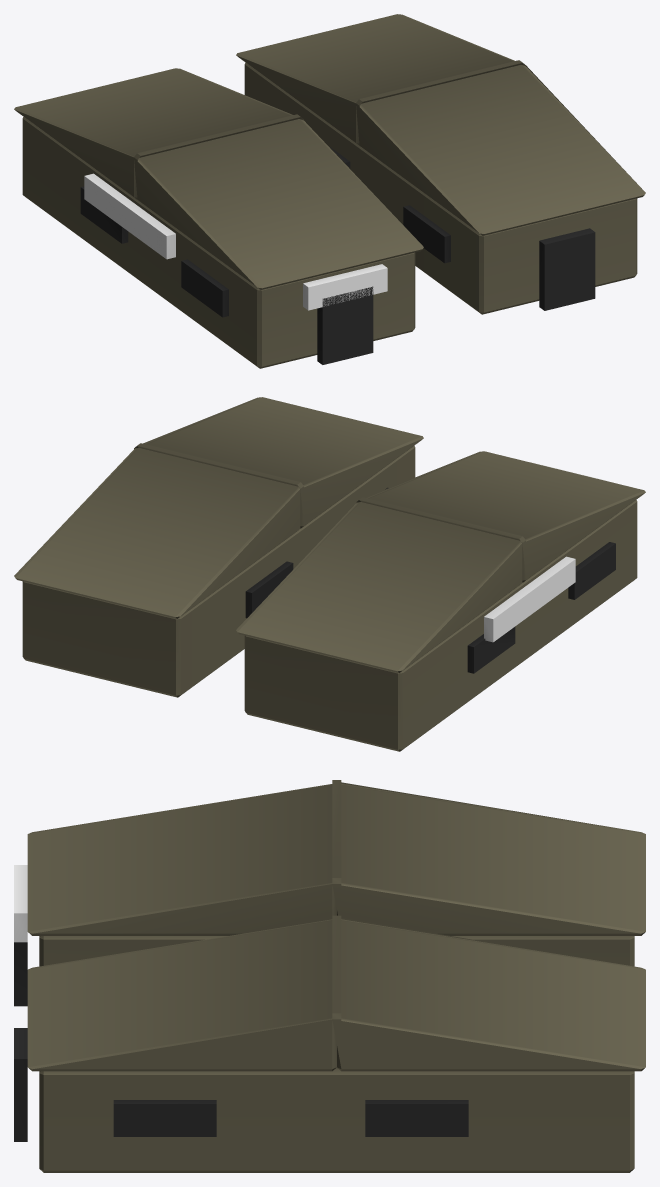
The model's file is ru-barracks.glb.
3 renders of one model, top to bottom at view 1: azimuth 30°, elevation 25°; view 2: azimuth 150°, elevation 25°; view 3: azimuth 270°, elevation 25°, orthographic. The views are drawn at different scales.
Visible parts, largest first — view 1: ru-barracks; view 2: ru-barracks; view 3: ru-barracks.
Boxes of the visible parts, box(x1,y1,x2,y2) form: ru-barracks: box(14, 14, 645, 368); ru-barracks: box(14, 397, 645, 751); ru-barracks: box(14, 780, 645, 1172).
Bounding box in the file's own units: 2.53 × 0.78 × 2.76.
